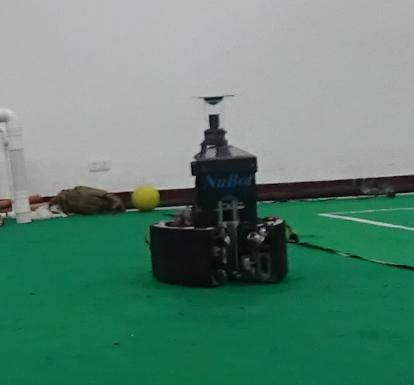robot: (148, 88, 293, 290)
